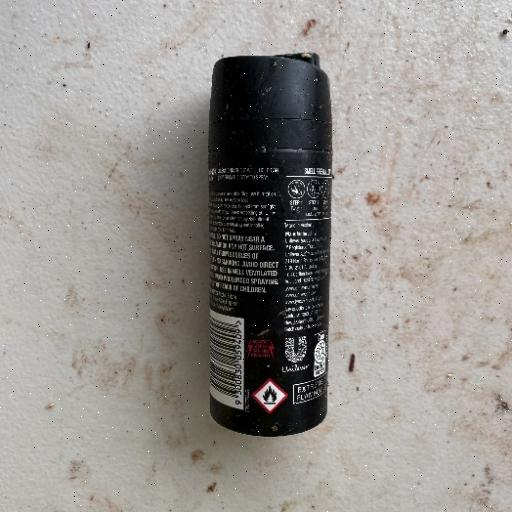Metal: (205, 51, 334, 437)
